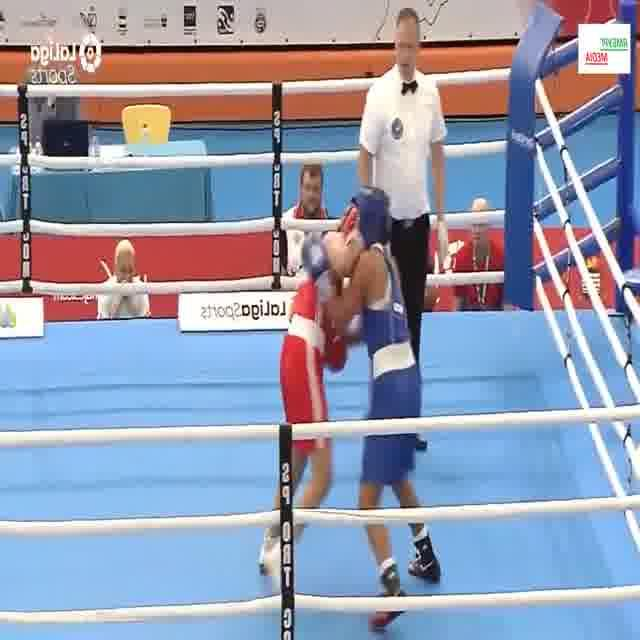blue-player: (299, 183, 441, 634)
red-player: (254, 192, 402, 600)
referee: (353, 6, 451, 454)
